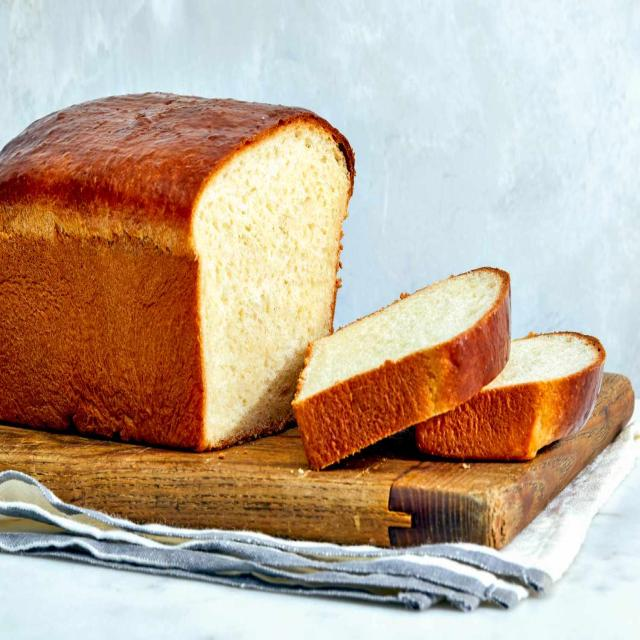Bread: (2, 79, 360, 464), (289, 267, 612, 468)
